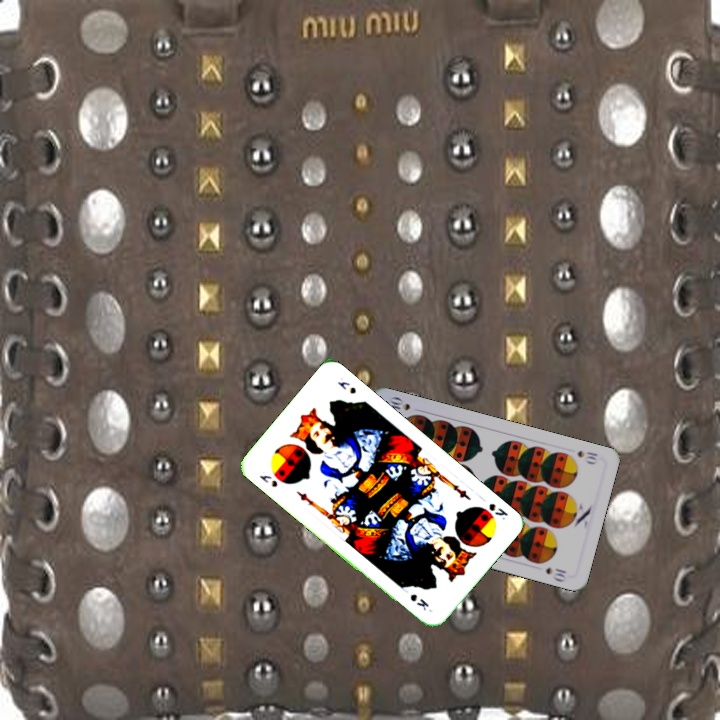S10: (572, 446, 601, 467)
SK: (485, 499, 511, 522), (255, 471, 280, 490)
